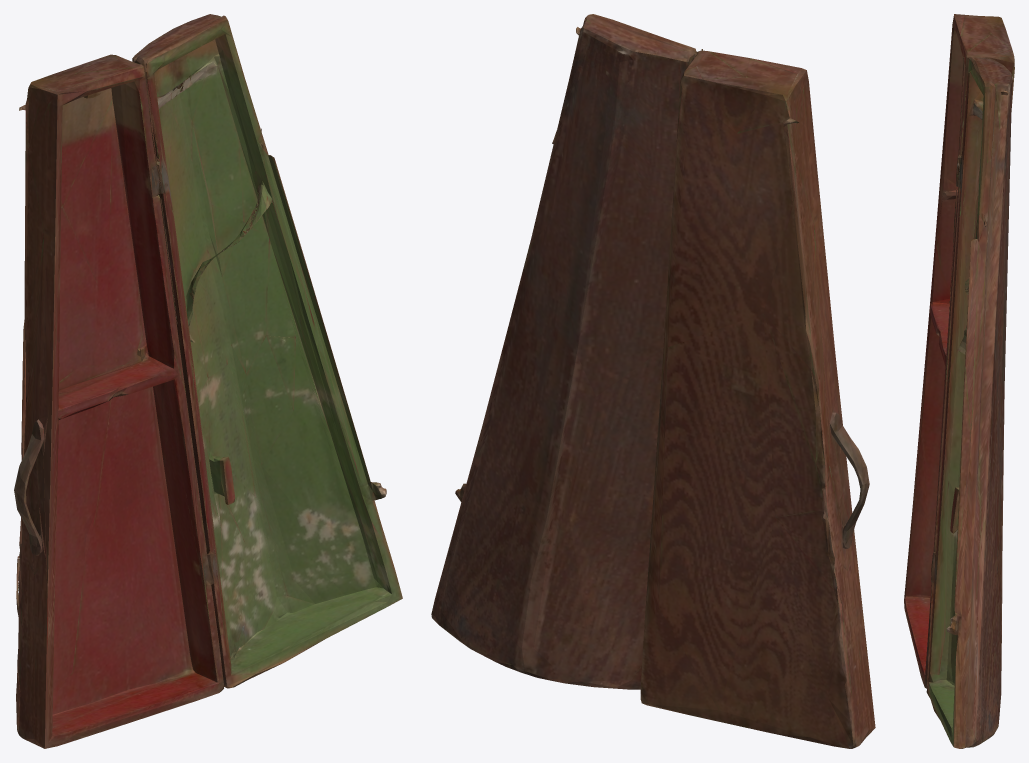
The model's file is E52BBC0E-512F-3642-9C96-416A672B0D09_512.glb.
3 views of the same model, side by side, from view 1: azimuth 30°, elevation 25°; view 2: azimuth 150°, elevation 25°; view 3: azimuth 270°, elevation 25° (orthographic). The views are drawn at different scales.
Parts seen in each view (by area): view 1: Geigenkasten_7k_0.5k; view 2: Geigenkasten_7k_0.5k; view 3: Geigenkasten_7k_0.5k.
Boxes of the visible parts, <box> form: Geigenkasten_7k_0.5k: <box>14,14,402,748</box>; Geigenkasten_7k_0.5k: <box>431,14,875,748</box>; Geigenkasten_7k_0.5k: <box>904,14,1014,748</box>.
Size of the model in its own units: 0.5199 by 0.818 by 0.1306.
Materials: 1 (1 with a texture image).
